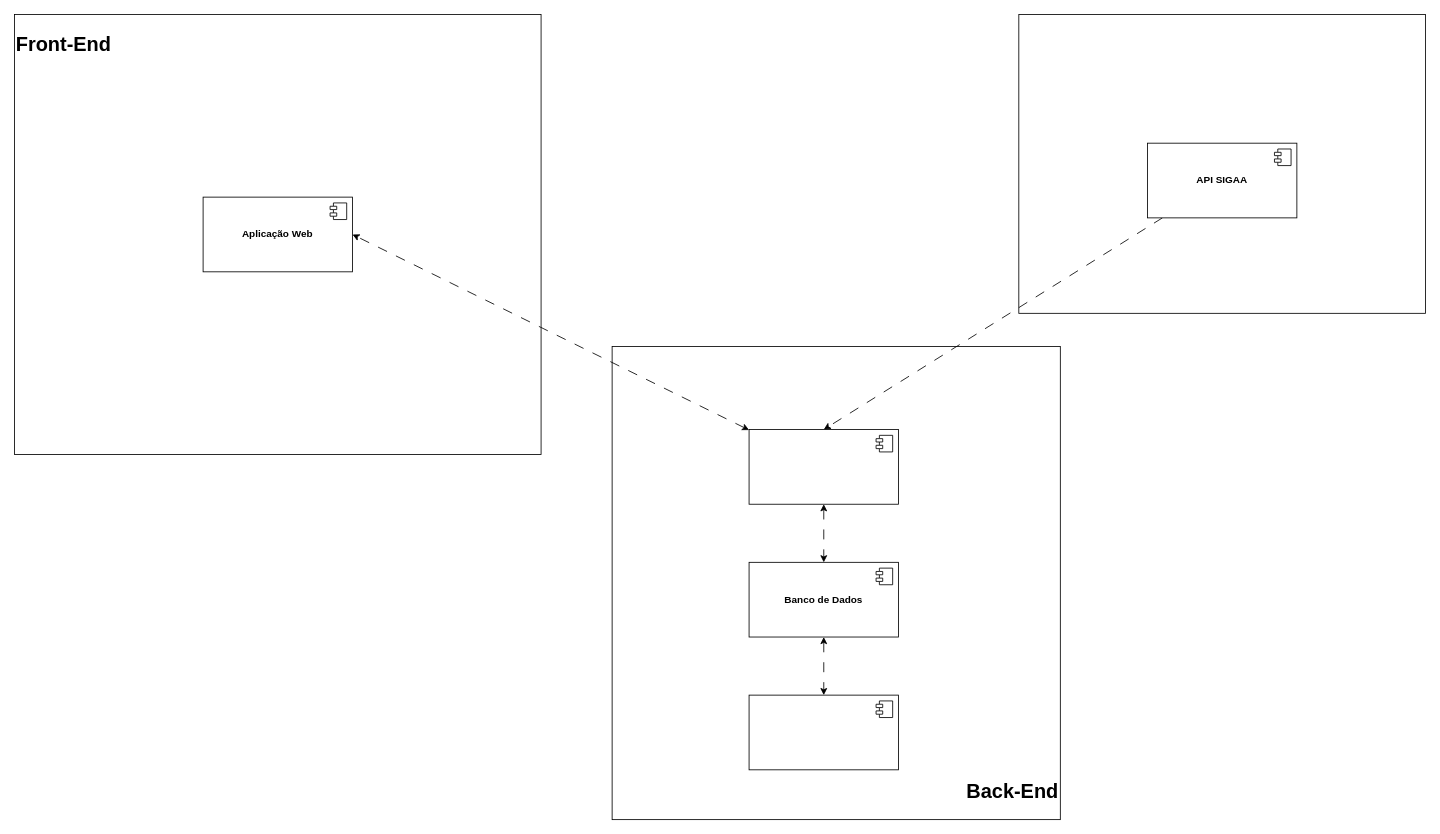
The diagram is 1440 pixels wide and 834 high, and some of its shapes have lost their labels. The shapes that lost their labels are listed below. From the top down, each one's box as (x1, y1, x2, y2) in pixels, then its label:
(1018, 14, 1426, 313): CTIC
(748, 429, 898, 504): API
(748, 694, 898, 770): Registros
